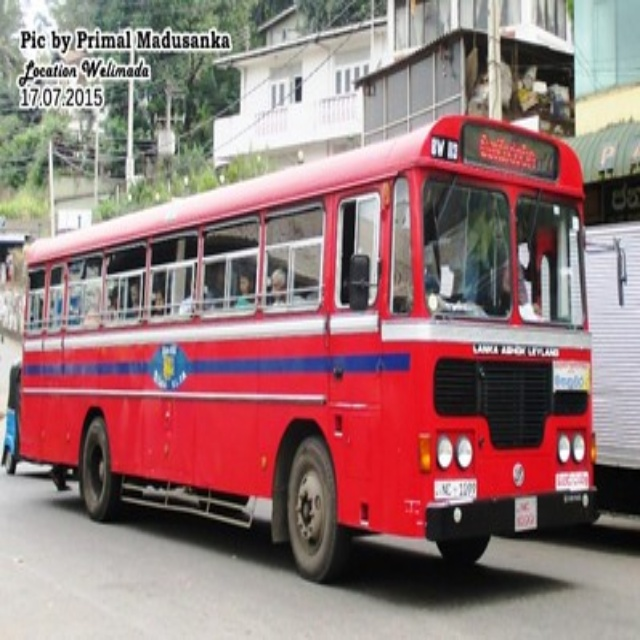Bus: (19, 113, 598, 587)
